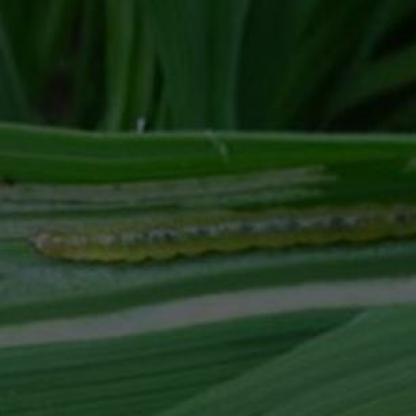leaf-folder: (27, 192, 416, 264)
